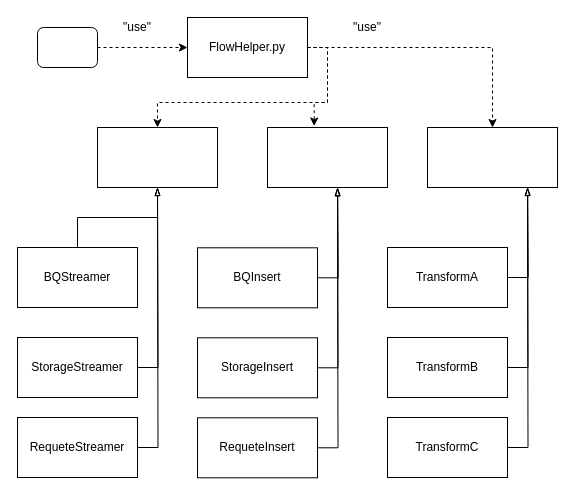
Some shapes in this 575 by 496 pixel diagram are drawn without their labels. The shapes that lost their labels are listed below. From the top down, each one's box as (x1, y1, x2, y2) in pixels, then its label:
(36, 26, 98, 68): Client
(96, 126, 218, 188): StreamerInterface
(266, 126, 388, 188): InserterInterface
(426, 126, 558, 188): TransformInterface
